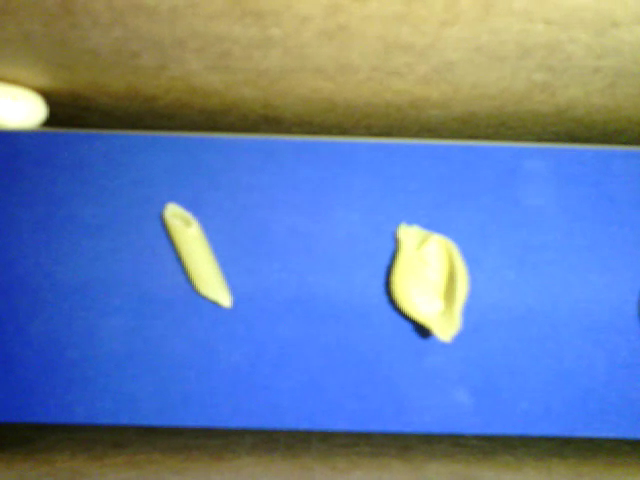penne: (160, 201, 233, 309)
shell: (389, 221, 469, 346)
